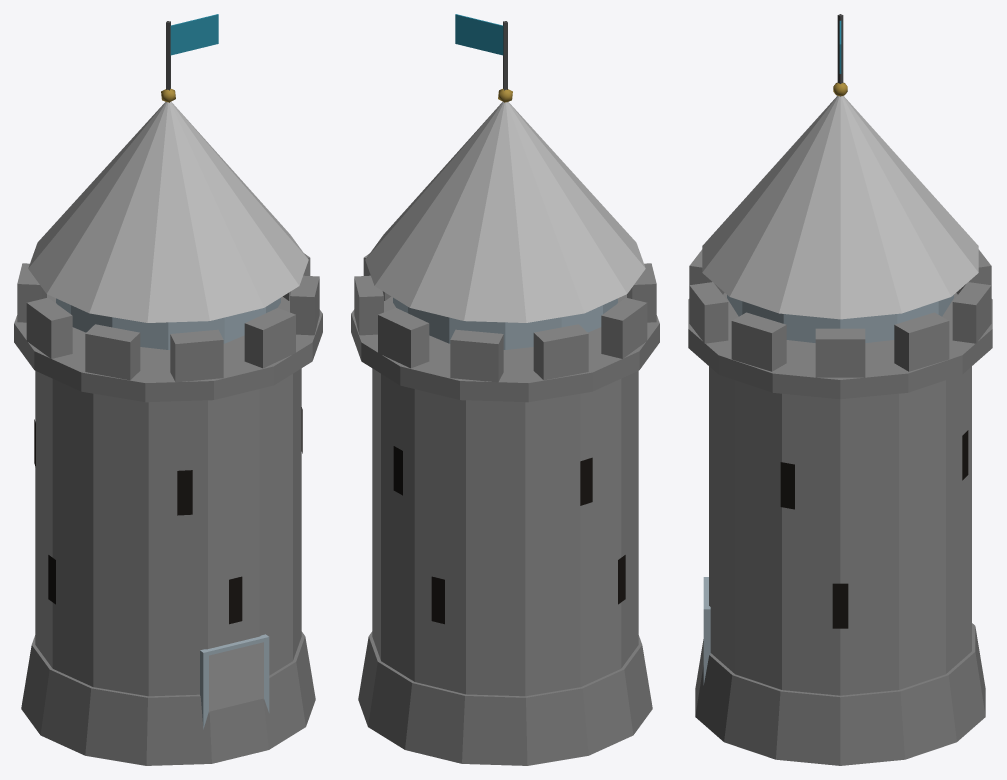
File: wall_tower.glb
3 renders of one model, left to right at view 1: azimuth 30°, elevation 25°; view 2: azimuth 150°, elevation 25°; view 3: azimuth 270°, elevation 25°, orthographic.
Visible parts, largest first — view 1: wall_tower; view 2: wall_tower; view 3: wall_tower.
Boxes of the visible parts, x1=… form: wall_tower: x1=14, y1=14, x2=322, y2=765; wall_tower: x1=351, y1=14, x2=659, y2=765; wall_tower: x1=688, y1=14, x2=992, y2=765.
Size of the model in its own units: 4.4 by 10.71 by 4.29.
